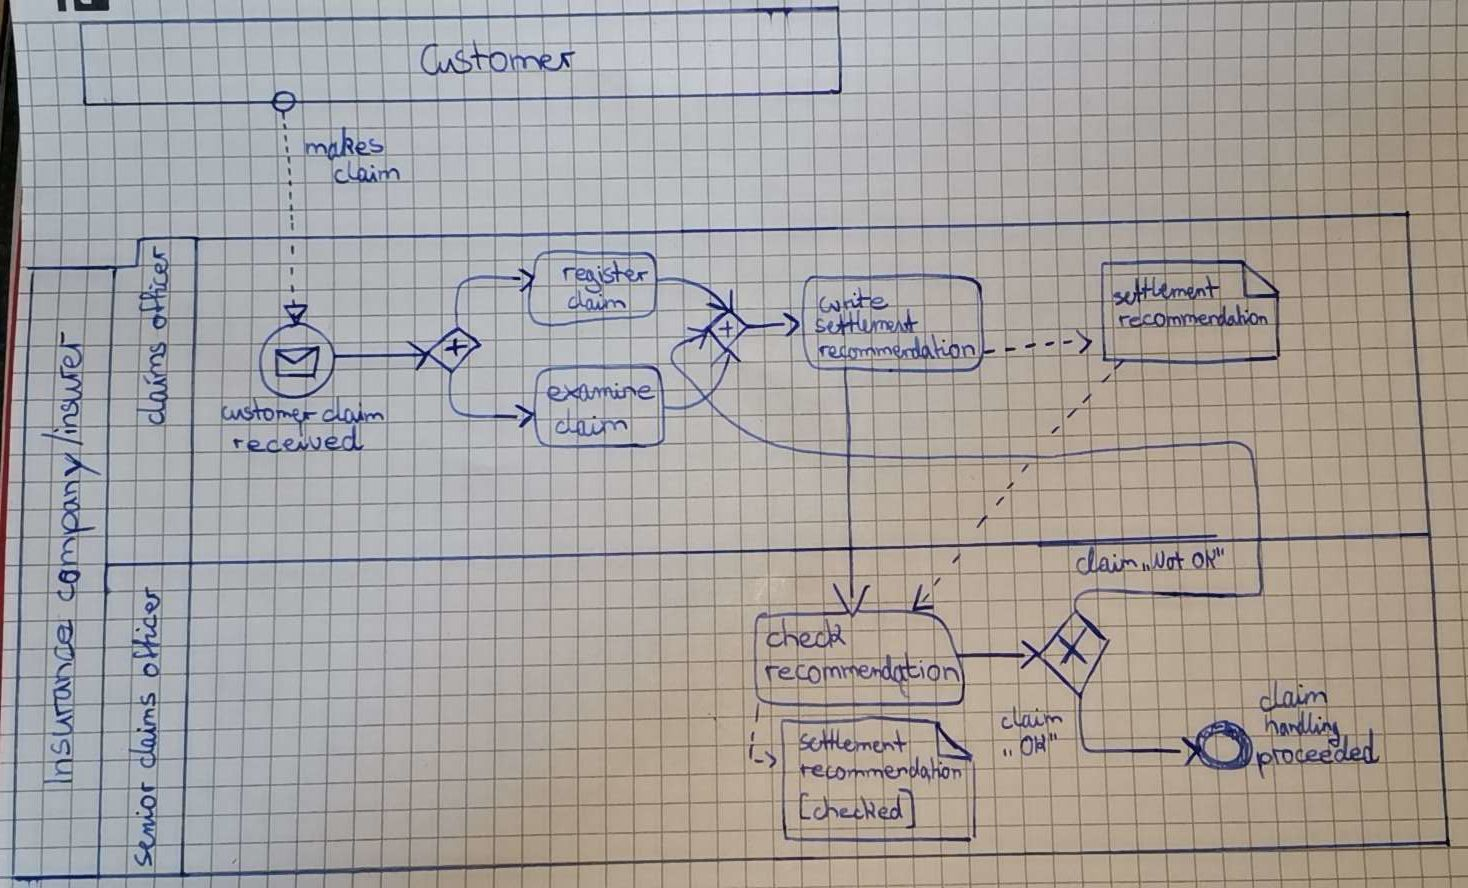/insurer: (38, 325, 86, 452)
Customer: (415, 38, 582, 79)
Insurance: (41, 615, 78, 792)
Not: (1137, 545, 1190, 573)
OK: (999, 729, 1059, 760), (1188, 543, 1229, 571)
[checked]: (794, 785, 922, 831)
check: (760, 615, 854, 650)
claim: (549, 406, 634, 439), (316, 393, 391, 429), (1254, 679, 1334, 712), (328, 158, 406, 186), (1072, 546, 1140, 577), (998, 703, 1067, 731), (561, 289, 632, 315)
claims: (130, 335, 173, 434), (124, 689, 164, 775)
company: (53, 445, 99, 607)
customer: (214, 395, 320, 428)
examine: (542, 377, 657, 407)
handling: (1258, 709, 1347, 748)
makes: (298, 127, 390, 163)
officer: (126, 581, 167, 684), (133, 240, 175, 335)
proceeded: (1253, 728, 1382, 781)
received: (230, 423, 370, 456)
recommendation: (759, 646, 966, 689), (811, 328, 983, 366), (794, 754, 968, 785), (1113, 303, 1274, 332)
register: (557, 256, 654, 295)
senior: (126, 774, 163, 874)
settlement: (1107, 270, 1227, 308), (809, 303, 925, 342), (792, 727, 912, 756)
write: (814, 283, 894, 316)
